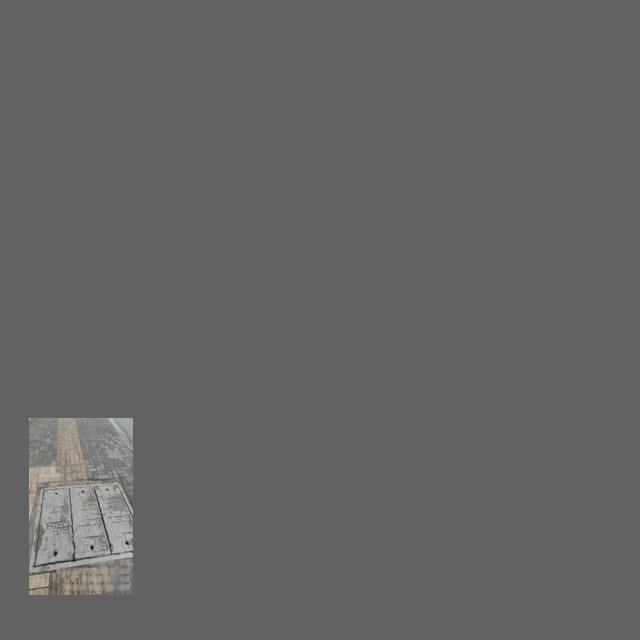good: (31, 479, 133, 570)
